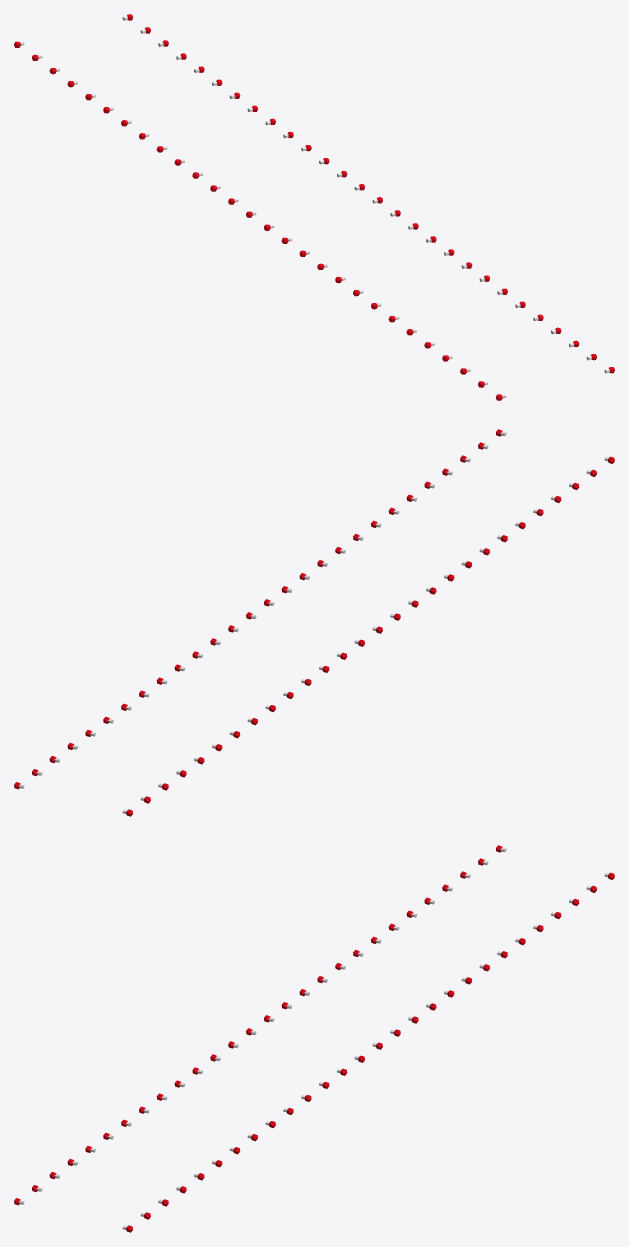
The model's file is gb_light_bulbs_bridge.fbx.
3 views of the same model, one above another, from view 1: azimuth 30°, elevation 25°; view 2: azimuth 150°, elevation 25°; view 3: azimuth 330°, elevation 25° (orthographic).
Parts seen in each view (by area): view 1: gb_light_bulbs_bridge; view 2: gb_light_bulbs_bridge; view 3: gb_light_bulbs_bridge.
Boxes of the visible parts, box(x1,y1,x2,y2) form: gb_light_bulbs_bridge: box(14, 14, 614, 400); gb_light_bulbs_bridge: box(14, 429, 614, 816); gb_light_bulbs_bridge: box(14, 845, 614, 1232).
Bounding box in the file's own units: 471 × 22.47 × 3321.
